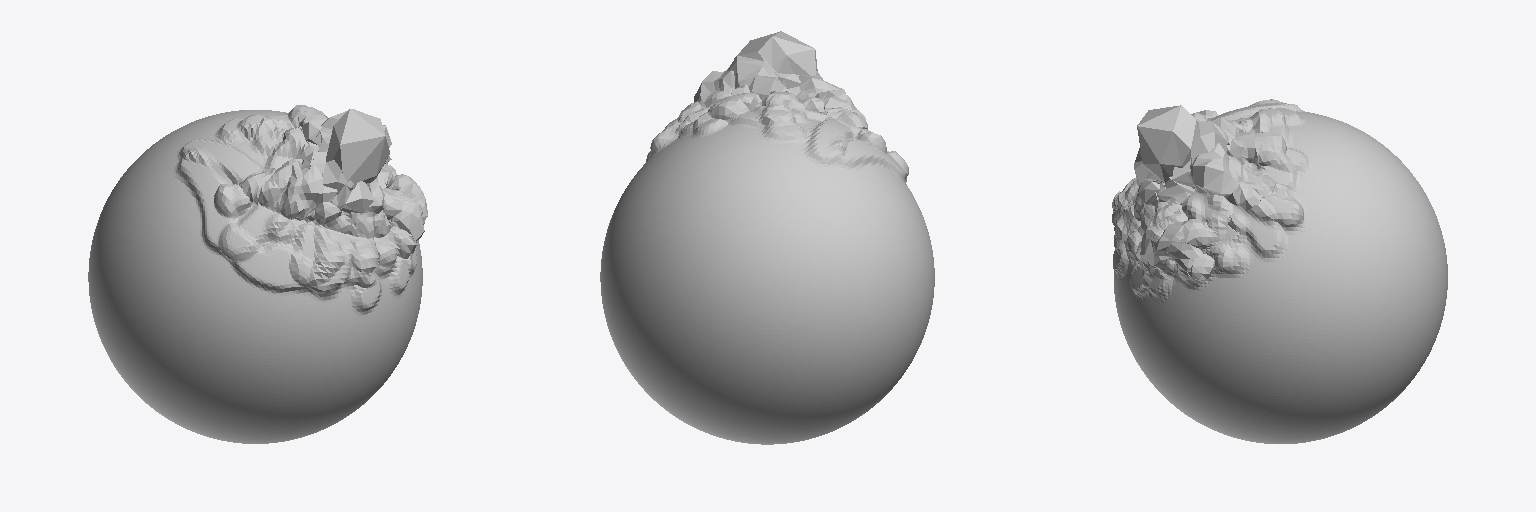
Rendered from place.obj.
3 renders of one model, left to right at view 1: azimuth 30°, elevation 25°; view 2: azimuth 150°, elevation 25°; view 3: azimuth 270°, elevation 25°, orthographic.
Parts seen in each view (by area): view 1: Quad_Sphere; view 2: Quad_Sphere; view 3: Quad_Sphere.
Boxes of the visible parts, x1,y1,x2,y2 form: Quad_Sphere: [88, 105, 427, 443]; Quad_Sphere: [600, 31, 934, 444]; Quad_Sphere: [1112, 99, 1447, 443].
Bounding box in the file's own units: 2.57 × 2.93 × 2.58.